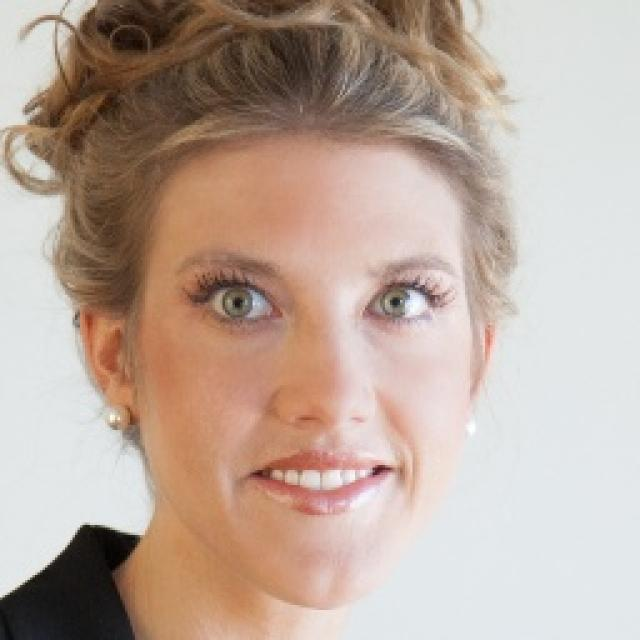earlobe: (78, 304, 135, 426), (465, 305, 499, 440)
